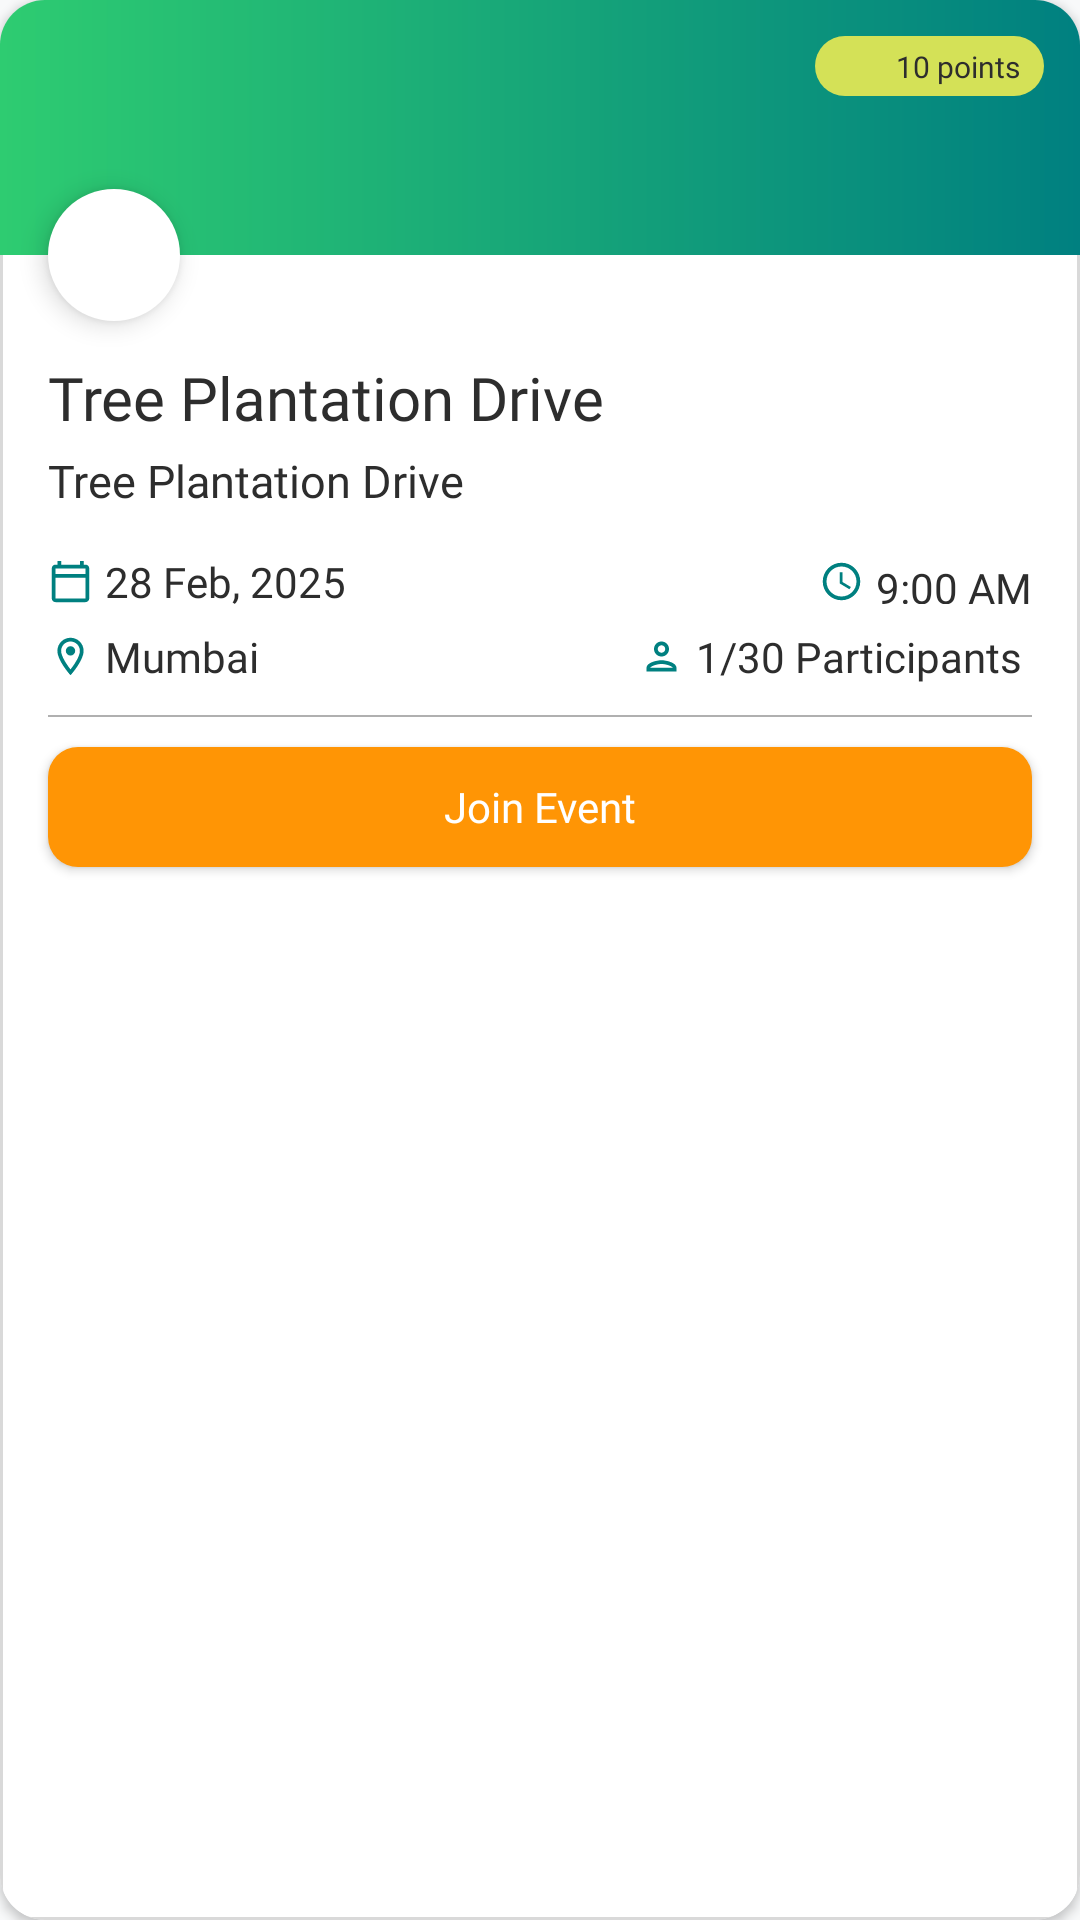

Icons on this 1080px×1920px Android screen, each with its box as (x1, y1, x2, y2):
calender: (51, 561, 90, 603)
clock: (822, 562, 861, 601)
location: (57, 637, 84, 675)
person: (646, 641, 677, 672)
